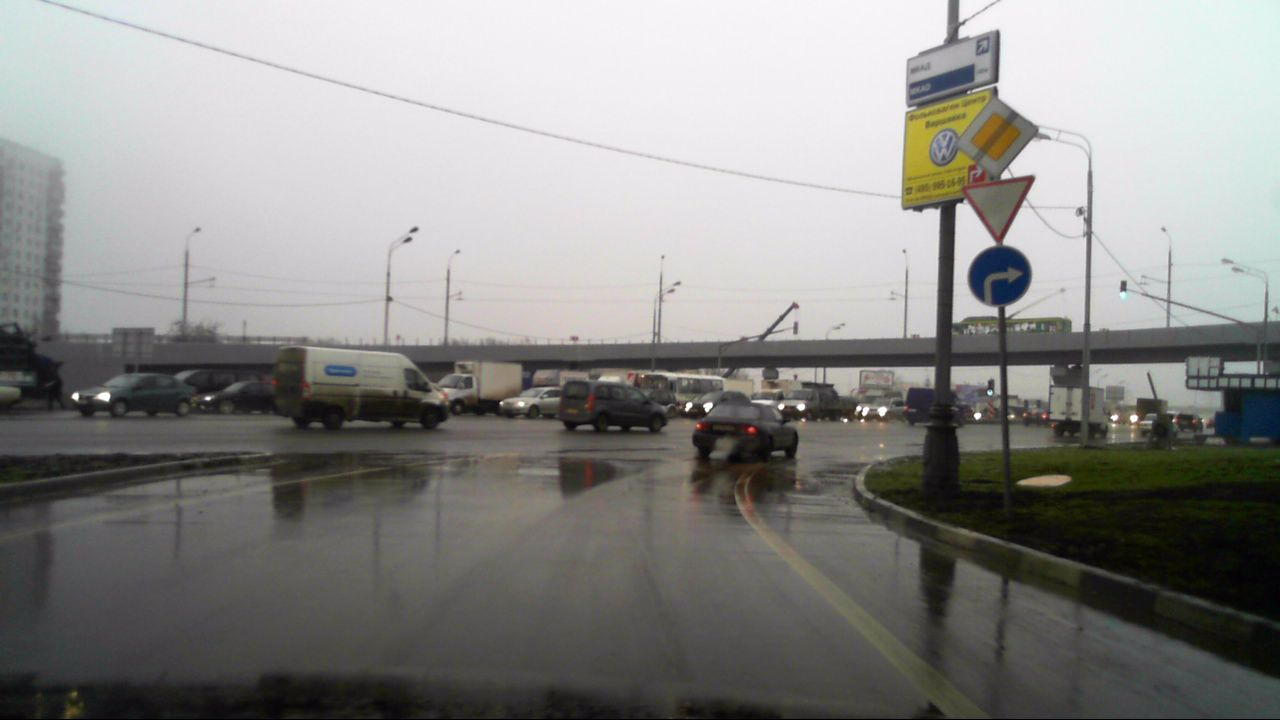main road: (957, 98, 1037, 180)
